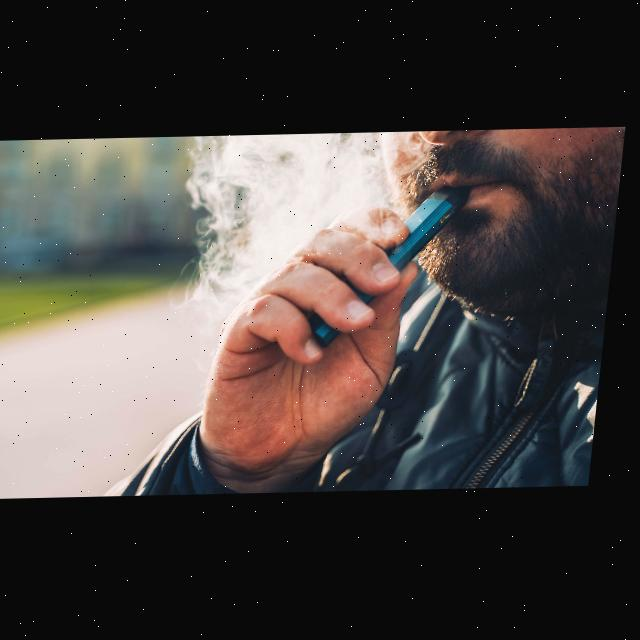vape: (311, 185, 474, 350)
